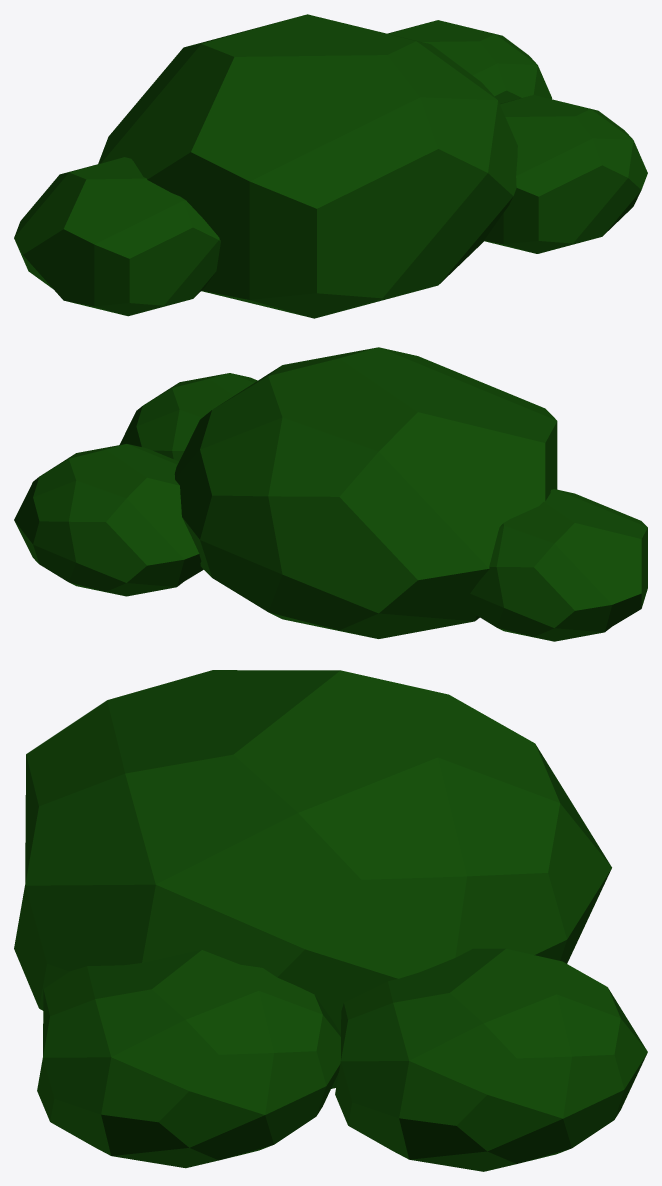
The model's file is Shurb_A.fbx.
The picture shows the model from 3 angles, top to bottom: view 1: azimuth 30°, elevation 25°; view 2: azimuth 150°, elevation 25°; view 3: azimuth 270°, elevation 25°; orthographic projection. The views are drawn at different scales.
Visible parts, largest first — view 1: shurb6, shurb8, shurb7, shurb5; view 2: shurb6, shurb5, shurb8, shurb7; view 3: shurb6, shurb5, shurb7.
Boxes of the visible parts, x1,y1,x2,y2 form: shurb6: (98, 14, 517, 318); shurb8: (14, 157, 220, 316); shurb7: (484, 95, 647, 253); shurb5: (387, 20, 552, 103); shurb6: (174, 347, 557, 638); shurb5: (14, 444, 203, 596); shurb8: (470, 489, 647, 641); shurb7: (119, 373, 257, 461); shurb6: (14, 670, 611, 1088); shurb5: (335, 948, 647, 1171); shurb7: (37, 950, 340, 1168).
Bounding box in the file's own units: 13.39 × 5.16 × 8.75.
